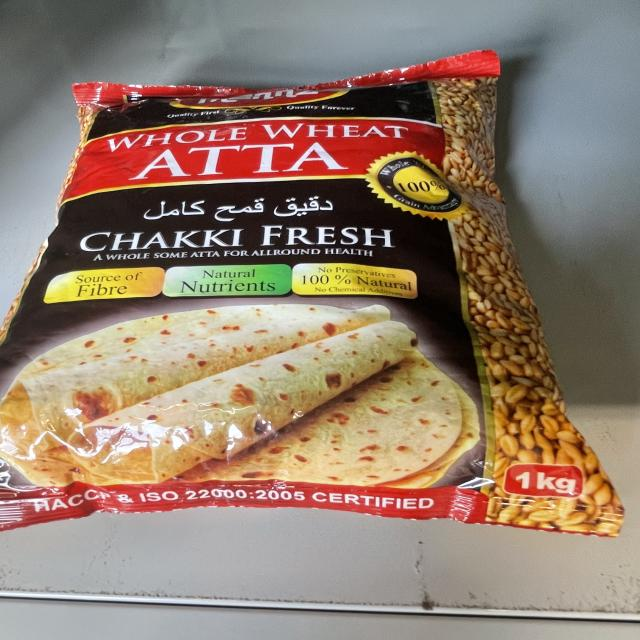object_name: (50, 86, 589, 524)
